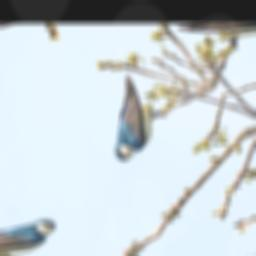Swallow: (65, 72, 188, 169)
